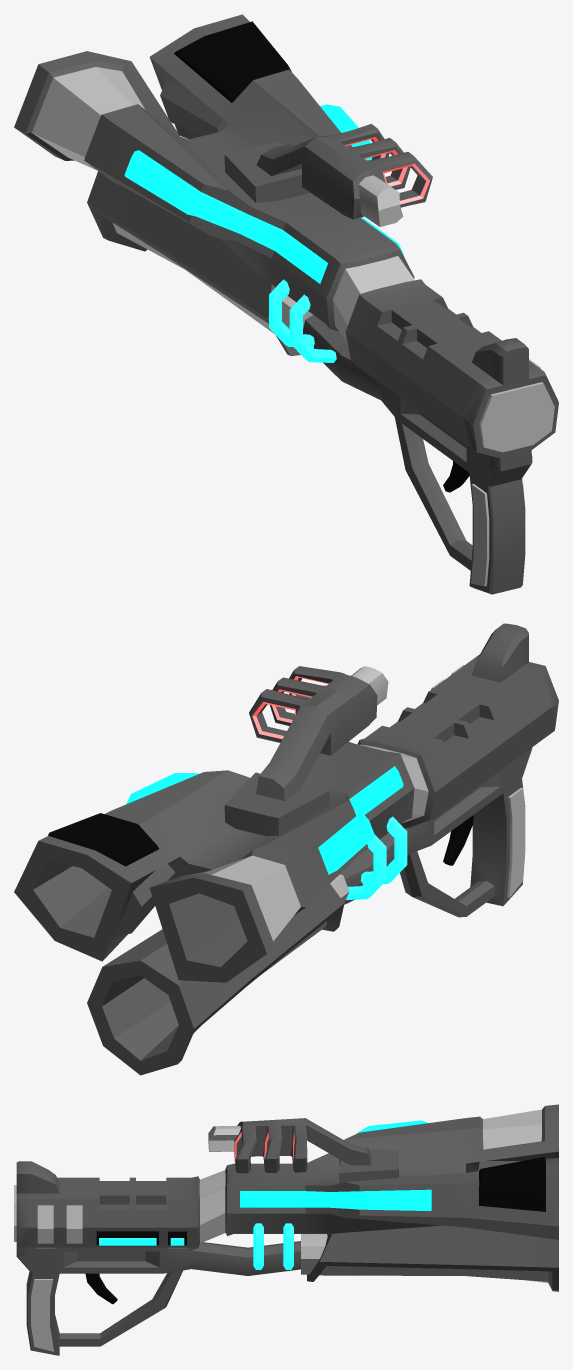
File: Gun.fbx
3 views of the same model, one above another, from view 1: azimuth 30°, elevation 25°; view 2: azimuth 150°, elevation 25°; view 3: azimuth 270°, elevation 25° (orthographic). The views are drawn at different scales.
Parts seen in each view (by area): view 1: Gun; view 2: Gun; view 3: Gun.
Part boxes in pixels (x1=…): Gun: x1=14, y1=14, x2=558, y2=594; Gun: x1=14, y1=623, x2=558, y2=1075; Gun: x1=14, y1=1104, x2=558, y2=1355.
Bounding box in the file's own units: 27.3 × 33.19 × 70.55.
